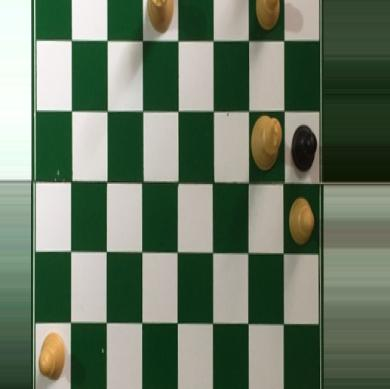black-pawn: (290, 121, 318, 173)
white-king: (247, 115, 283, 173)
white-pawn: (38, 330, 67, 384), (287, 193, 315, 246), (254, 0, 282, 33)
white-rook: (146, 0, 174, 33)
